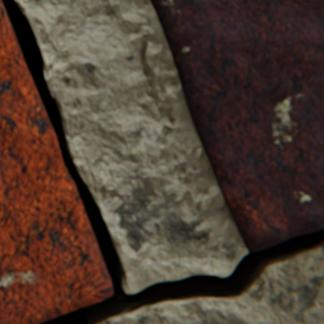brick: (150, 0, 323, 250), (0, 0, 112, 323)
crack: (2, 0, 323, 323)
